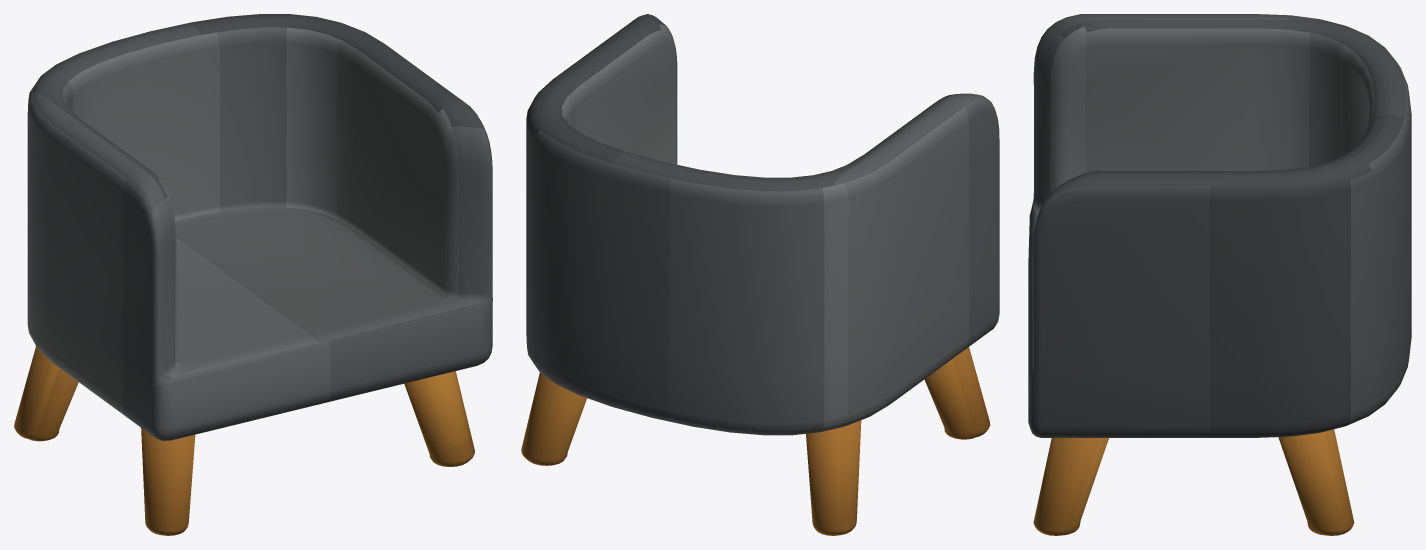
Rendered from LoungeChair_Grey.fbx.
3 views of the same model, side by side, from view 1: azimuth 30°, elevation 25°; view 2: azimuth 150°, elevation 25°; view 3: azimuth 270°, elevation 25° (orthographic). The views are drawn at different scales.
Visible parts, largest first — view 1: loungeChair_.001; view 2: loungeChair_.001; view 3: loungeChair_.001.
Part boxes in pixels (left/top/right/bottom): loungeChair_.001: left=14, top=14, right=492, bottom=535; loungeChair_.001: left=521, top=14, right=999, bottom=535; loungeChair_.001: left=1028, top=14, right=1411, bottom=535.
Size of the model in its own units: 83.22 by 81.02 by 77.12.
